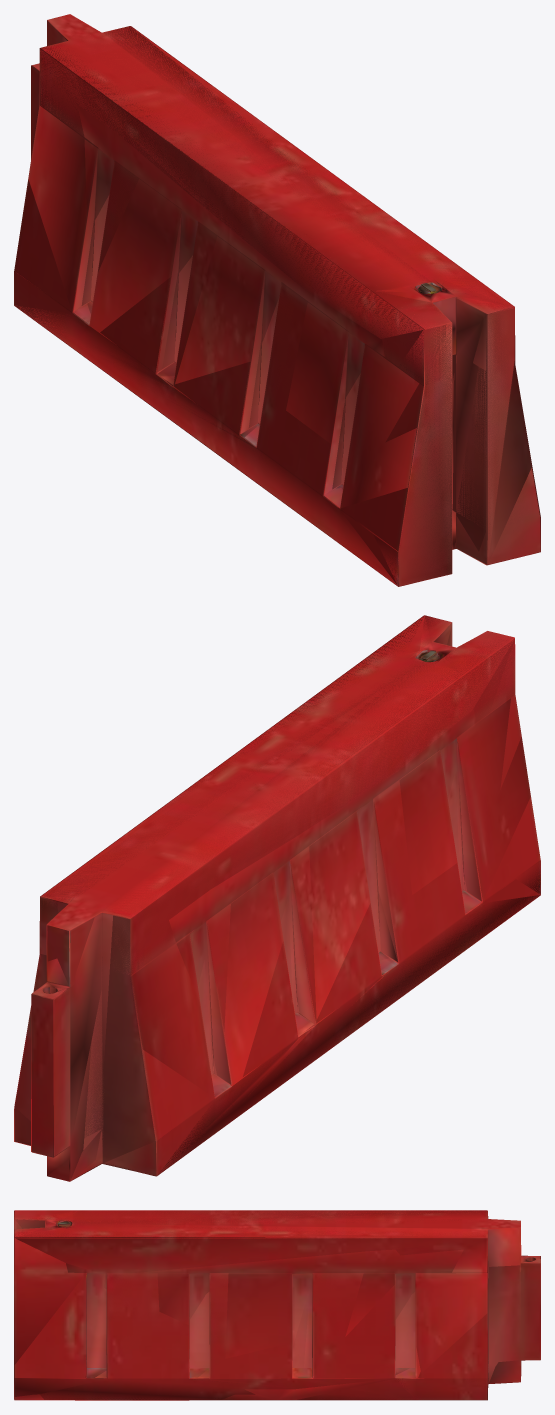
The model's file is sm_barrier08.glb.
3 views of the same model, one above another, from view 1: azimuth 30°, elevation 25°; view 2: azimuth 150°, elevation 25°; view 3: azimuth 270°, elevation 25° (orthographic). The views are drawn at different scales.
Visible parts, largest first — view 1: sm_barrier08_00; view 2: sm_barrier08_00; view 3: sm_barrier08_00.
Boxes of the visible parts, x1,y1,x2,y2 form: sm_barrier08_00: (14,14,540,586); sm_barrier08_00: (14,615,540,1181); sm_barrier08_00: (14,1210,540,1400).
Bounding box in the file's own units: 0.5372 × 0.9103 × 2.79.
Materials: 1 (1 with a texture image).
